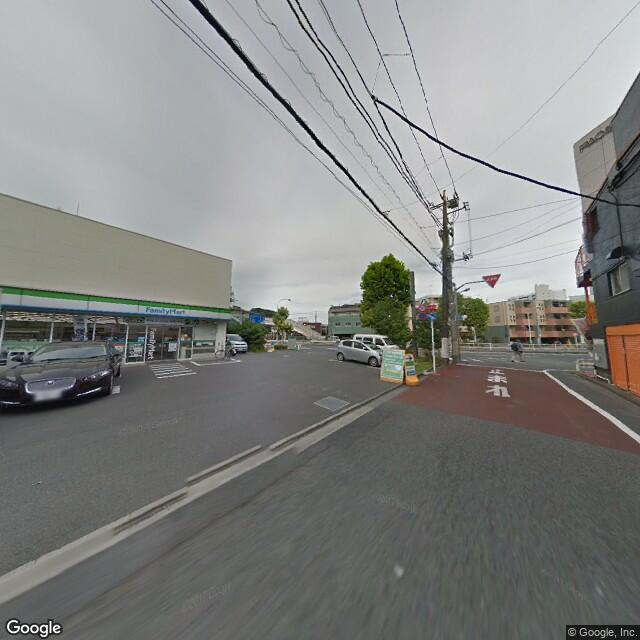family_mart: (1, 284, 232, 325), (141, 302, 187, 317)
